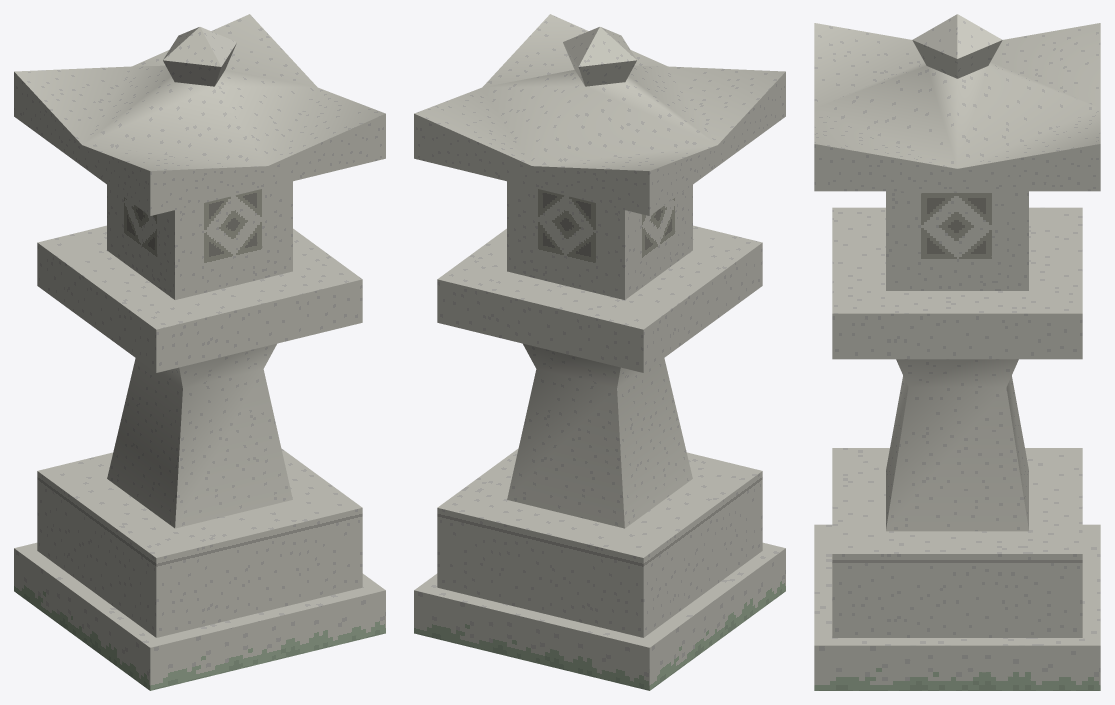
Rendered from 00d8_Garden_Lantern.glb.
3 views of the same model, side by side, from view 1: azimuth 30°, elevation 25°; view 2: azimuth 150°, elevation 25°; view 3: azimuth 270°, elevation 25° (orthographic). The views are drawn at different scales.
Parts seen in each view (by area): view 1: part_0; view 2: part_0; view 3: part_0.
Boxes of the visible parts, x1=… form: part_0: x1=14, y1=14, x2=385, y2=690; part_0: x1=414, y1=14, x2=785, y2=690; part_0: x1=814, y1=14, x2=1100, y2=690.
Bounding box in the file's own units: 0.4 × 0.95 × 0.4.
1 material, 1 textured.
